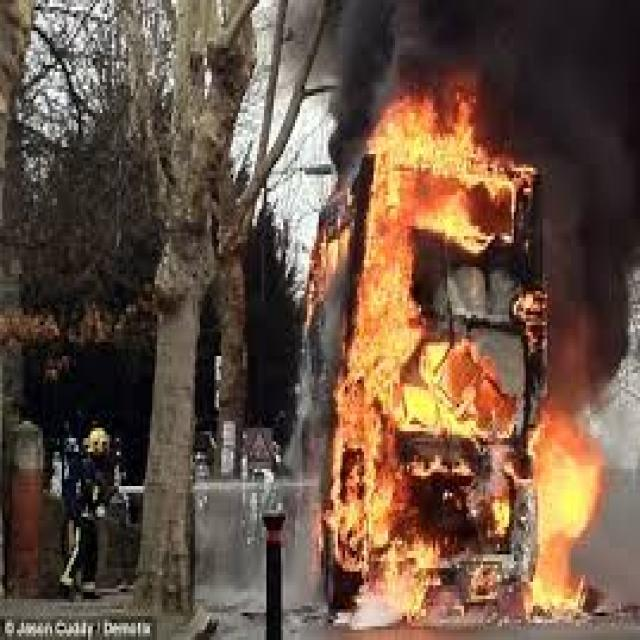Fire: (310, 82, 598, 628)
Smoke: (281, 2, 640, 82)
